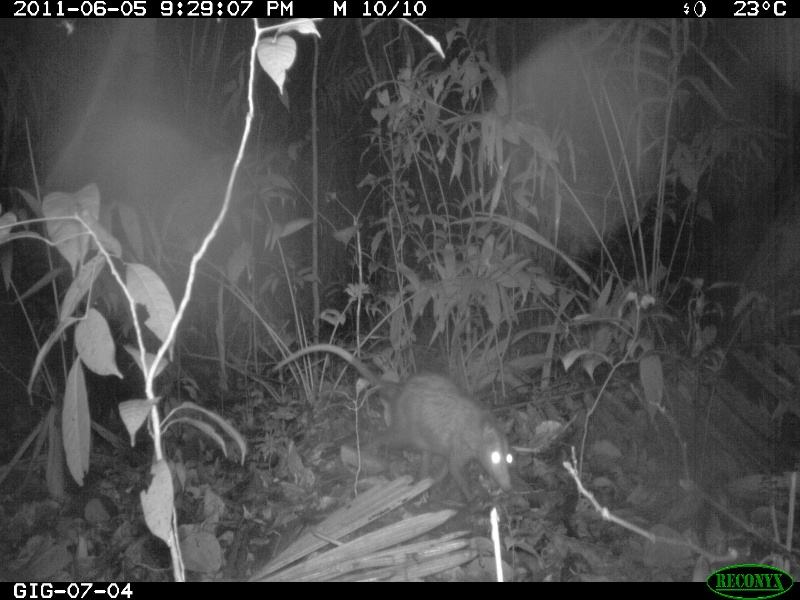opossum: (272, 344, 518, 501)
